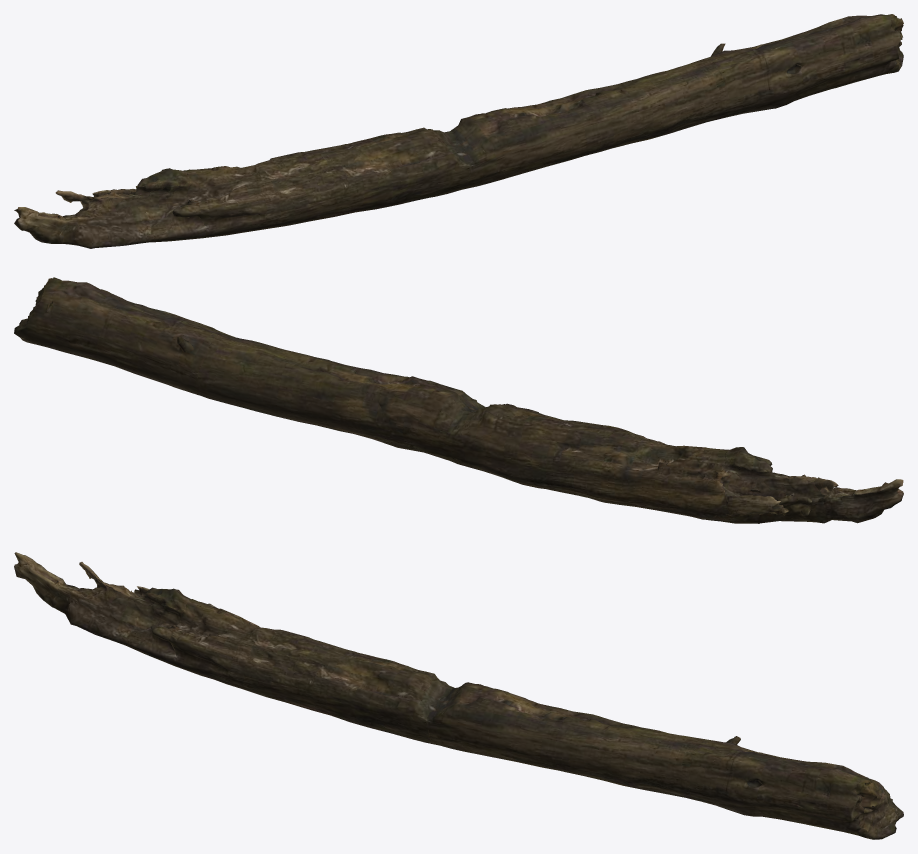
The model's file is Dead Tree.glb.
3 views of the same model, one above another, from view 1: azimuth 30°, elevation 25°; view 2: azimuth 150°, elevation 25°; view 3: azimuth 330°, elevation 25° (orthographic).
Parts seen in each view (by area): view 1: dead_tree_trunk; view 2: dead_tree_trunk; view 3: dead_tree_trunk.
Boxes of the visible parts, x1,y1,x2,y2 form: dead_tree_trunk: [14, 14, 903, 248]; dead_tree_trunk: [14, 277, 903, 523]; dead_tree_trunk: [14, 552, 903, 839].
Size of the model in its own units: 4 by 0.3794 by 0.363.
Materials: 1 (1 with a texture image).
